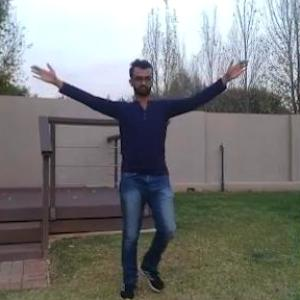takeoff: (29, 60, 240, 298)
